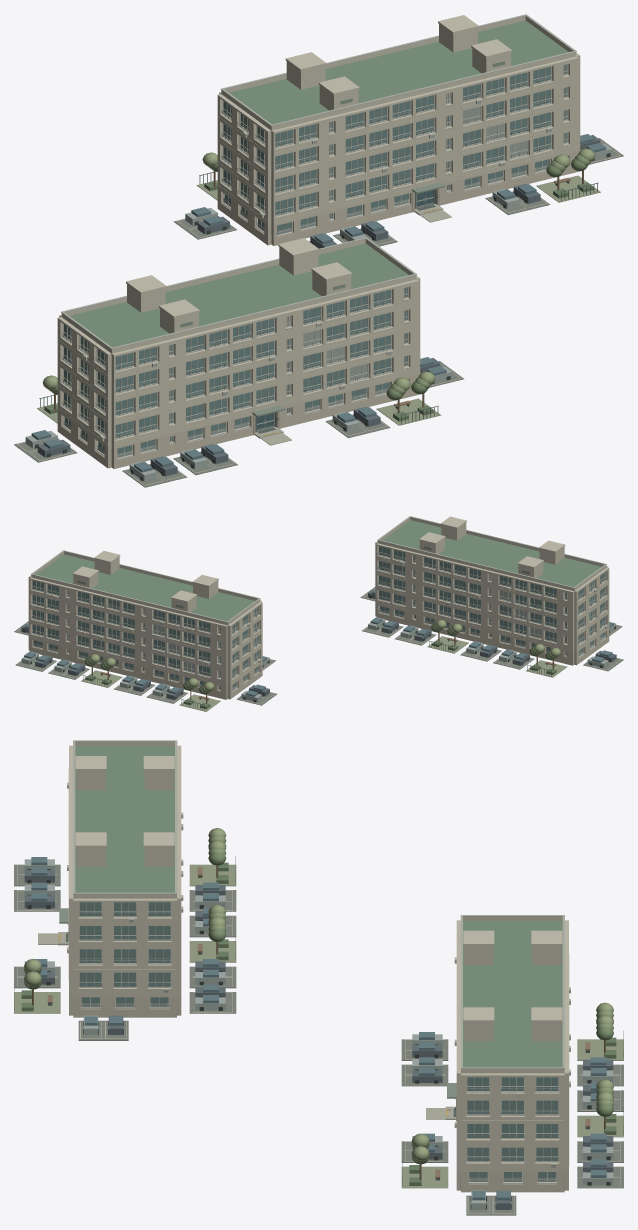
The model's file is old-1.glb.
3 views of the same model, one above another, from view 1: azimuth 30°, elevation 25°; view 2: azimuth 150°, elevation 25°; view 3: azimuth 270°, elevation 25° (orthographic). The views are drawn at different scales.
Parts seen in each view (by area): view 1: korean-facade-parts-cac6b4, korean-facade-surface-718b87, old-1, korean-facade-parts-d1d0bf, korean-facade-parts-c5c0ae, korean-facade-parts-8f9b97, korean-facade-parts-858b82, korean-facade-parts-b8bcb2, korean-facade-parts-6c858b, korean-facade-parts-6b787e, korean-facade-parts-a5b1ab, korean-facade-parts-9ba48a (+6 smaller); view 2: korean-facade-parts-cac6b4, korean-facade-surface-718b87, old-1, korean-facade-parts-d1d0bf, korean-facade-parts-c5c0ae, korean-facade-parts-8f9b97, korean-facade-parts-858b82, korean-facade-parts-b8bcb2, korean-facade-parts-6c858b, korean-facade-parts-9ba48a, korean-facade-parts-a5b1ab, korean-facade-parts-6b787e (+10 smaller); view 3: korean-facade-parts-cac6b4, old-1, korean-facade-surface-718b87, korean-facade-parts-858b82, korean-facade-parts-9ba48a, korean-facade-parts-6c858b, korean-facade-parts-a5b1ab, korean-facade-parts-6b787e, korean-facade-parts-c5c0ae, korean-facade-parts-d1d0bf, korean-facade-parts-b8bcb2, korean-facade-parts-94a17c (+6 smaller).
Boxes of the visible parts, left/top/right/bottom form: korean-facade-parts-cac6b4: left=57, top=15, right=580, bottom=448; korean-facade-surface-718b87: left=64, top=64, right=567, bottom=453; old-1: left=69, top=20, right=568, bottom=467; korean-facade-parts-d1d0bf: left=63, top=64, right=568, bottom=438; korean-facade-parts-c5c0ae: left=57, top=149, right=580, bottom=468; korean-facade-parts-8f9b97: left=61, top=77, right=552, bottom=439; korean-facade-parts-858b82: left=14, top=138, right=623, bottom=487; korean-facade-parts-b8bcb2: left=61, top=14, right=576, bottom=349; korean-facade-parts-6c858b: left=31, top=134, right=606, bottom=472; korean-facade-parts-6b787e: left=37, top=135, right=600, bottom=476; korean-facade-parts-a5b1ab: left=25, top=144, right=612, bottom=481; korean-facade-parts-9ba48a: left=37, top=175, right=600, bottom=425; korean-facade-parts-cac6b4: left=28, top=516, right=609, bottom=686; korean-facade-surface-718b87: left=32, top=546, right=605, bottom=687; old-1: left=36, top=520, right=601, bottom=621; korean-facade-parts-d1d0bf: left=32, top=546, right=605, bottom=678; korean-facade-parts-c5c0ae: left=28, top=603, right=609, bottom=699; korean-facade-parts-8f9b97: left=31, top=553, right=606, bottom=678; korean-facade-parts-858b82: left=14, top=587, right=623, bottom=705; korean-facade-parts-b8bcb2: left=30, top=516, right=607, bottom=622; korean-facade-parts-6c858b: left=24, top=590, right=613, bottom=696; korean-facade-parts-9ba48a: left=81, top=636, right=567, bottom=711; korean-facade-parts-a5b1ab: left=21, top=617, right=616, bottom=702; korean-facade-parts-6b787e: left=21, top=589, right=616, bottom=699; korean-facade-parts-cac6b4: left=68, top=742, right=569, bottom=1171; old-1: left=75, top=746, right=562, bottom=1067; korean-facade-surface-718b87: left=79, top=902, right=558, bottom=1181; korean-facade-parts-858b82: left=14, top=864, right=623, bottom=1215; korean-facade-parts-9ba48a: left=14, top=864, right=623, bottom=1188; korean-facade-parts-6c858b: left=31, top=857, right=606, bottom=1200; korean-facade-parts-a5b1ab: left=24, top=859, right=613, bottom=1209; korean-facade-parts-6b787e: left=24, top=870, right=613, bottom=1209; korean-facade-parts-c5c0ae: left=69, top=994, right=568, bottom=1192; korean-facade-parts-d1d0bf: left=78, top=902, right=559, bottom=1162; korean-facade-parts-b8bcb2: left=73, top=740, right=564, bottom=1068; korean-facade-parts-94a17c: left=24, top=828, right=613, bottom=1160.
Size of the model in its own units: 104 by 17.75 by 70.8.
